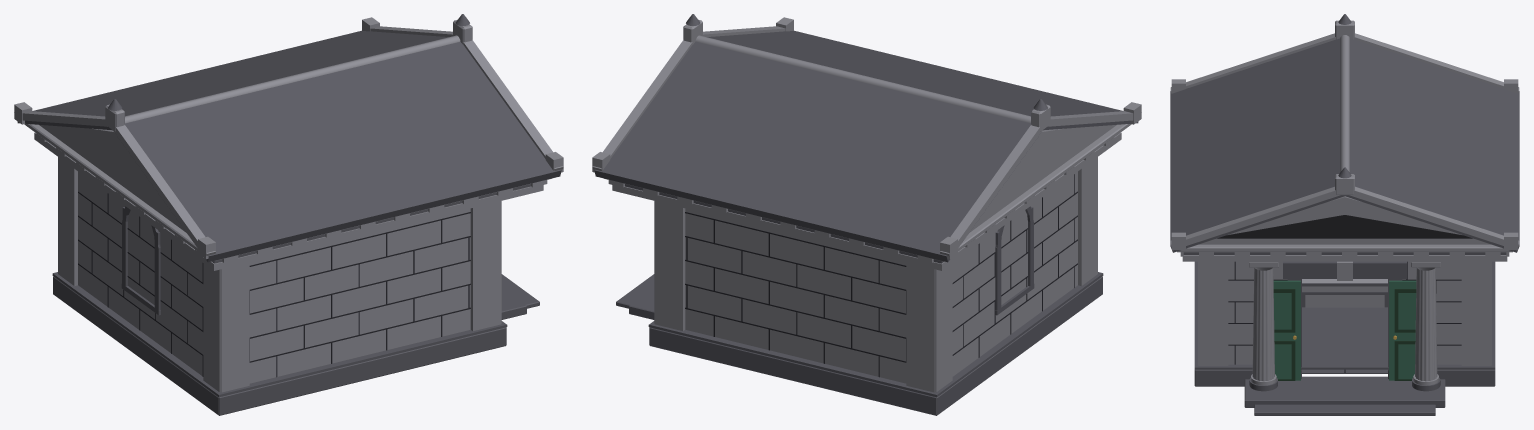
The model's file is hg-mausoleum.glb.
3 views of the same model, side by side, from view 1: azimuth 30°, elevation 25°; view 2: azimuth 150°, elevation 25°; view 3: azimuth 270°, elevation 25° (orthographic). The views are drawn at different scales.
Parts seen in each view (by area): view 1: hg-mausoleum; view 2: hg-mausoleum; view 3: hg-mausoleum.
Boxes of the visible parts, left/top/right/bottom form: hg-mausoleum: left=14, top=14, right=563, bottom=415; hg-mausoleum: left=592, top=14, right=1141, bottom=415; hg-mausoleum: left=1170, top=14, right=1519, bottom=415.
Bounding box in the file's own units: 8.34 × 5.46 × 7.31.
